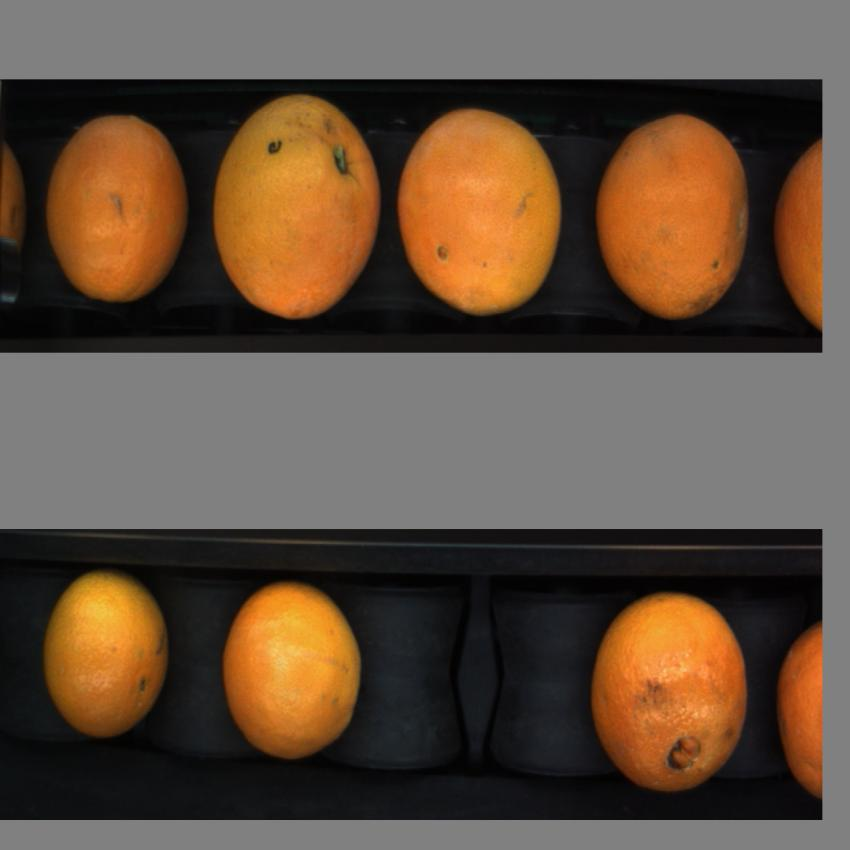Buen estado: (207, 86, 385, 330), (587, 580, 754, 812), (396, 99, 566, 324), (591, 107, 755, 335), (40, 101, 192, 320), (218, 567, 369, 776), (38, 559, 180, 738), (774, 123, 824, 336), (776, 611, 822, 796)
